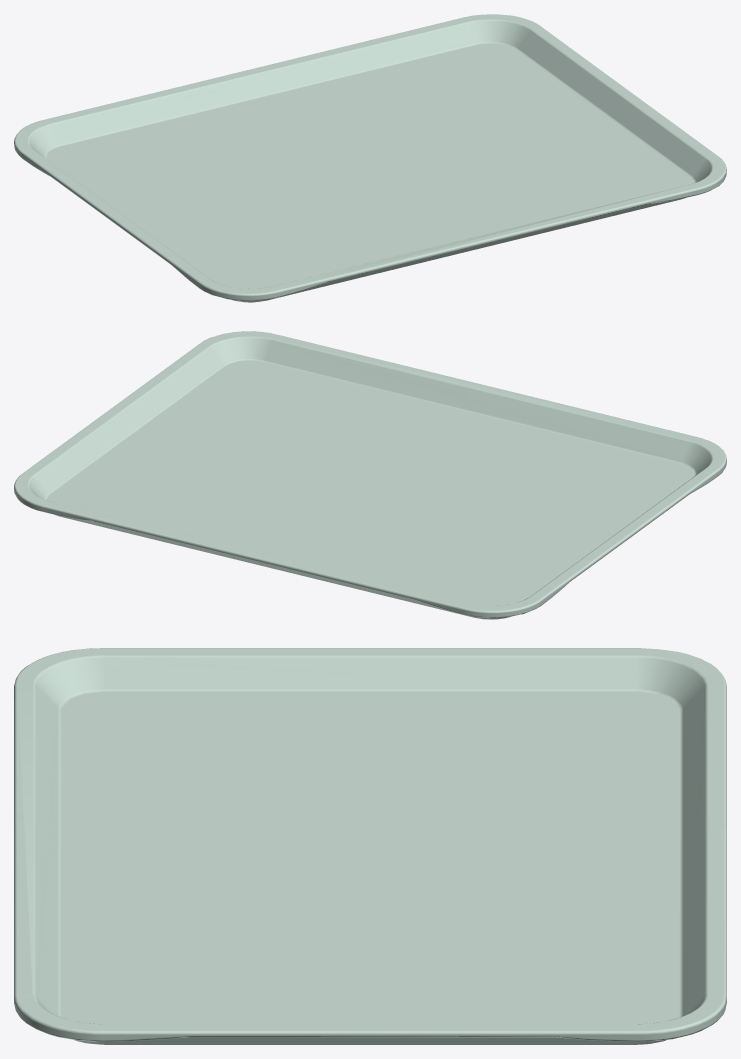
The model's file is tillgang_taca_60562295.glb.
3 views of the same model, one above another, from view 1: azimuth 30°, elevation 25°; view 2: azimuth 150°, elevation 25°; view 3: azimuth 270°, elevation 25° (orthographic). The views are drawn at different scales.
Parts seen in each view (by area): view 1: tillgang_taca_60562295; view 2: tillgang_taca_60562295; view 3: tillgang_taca_60562295.
Part boxes in pixels (<box>): tillgang_taca_60562295: <box>14,14,726,302</box>; tillgang_taca_60562295: <box>14,331,726,619</box>; tillgang_taca_60562295: <box>14,648,726,1044</box>.
Bounding box in the file's own units: 0.368 × 0.015 × 0.288.
Materials: 1 (1 with a texture image).
